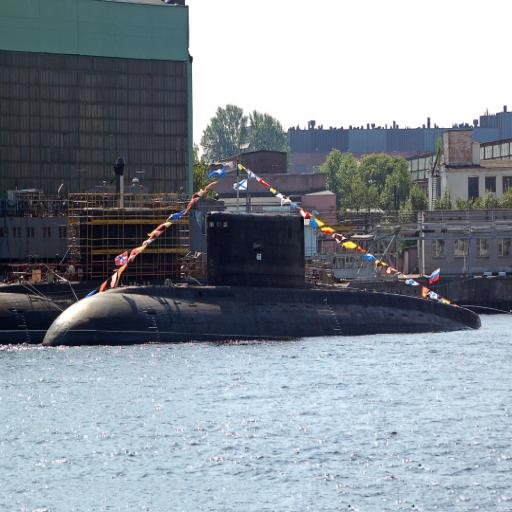submarine: (40, 215, 482, 349)
